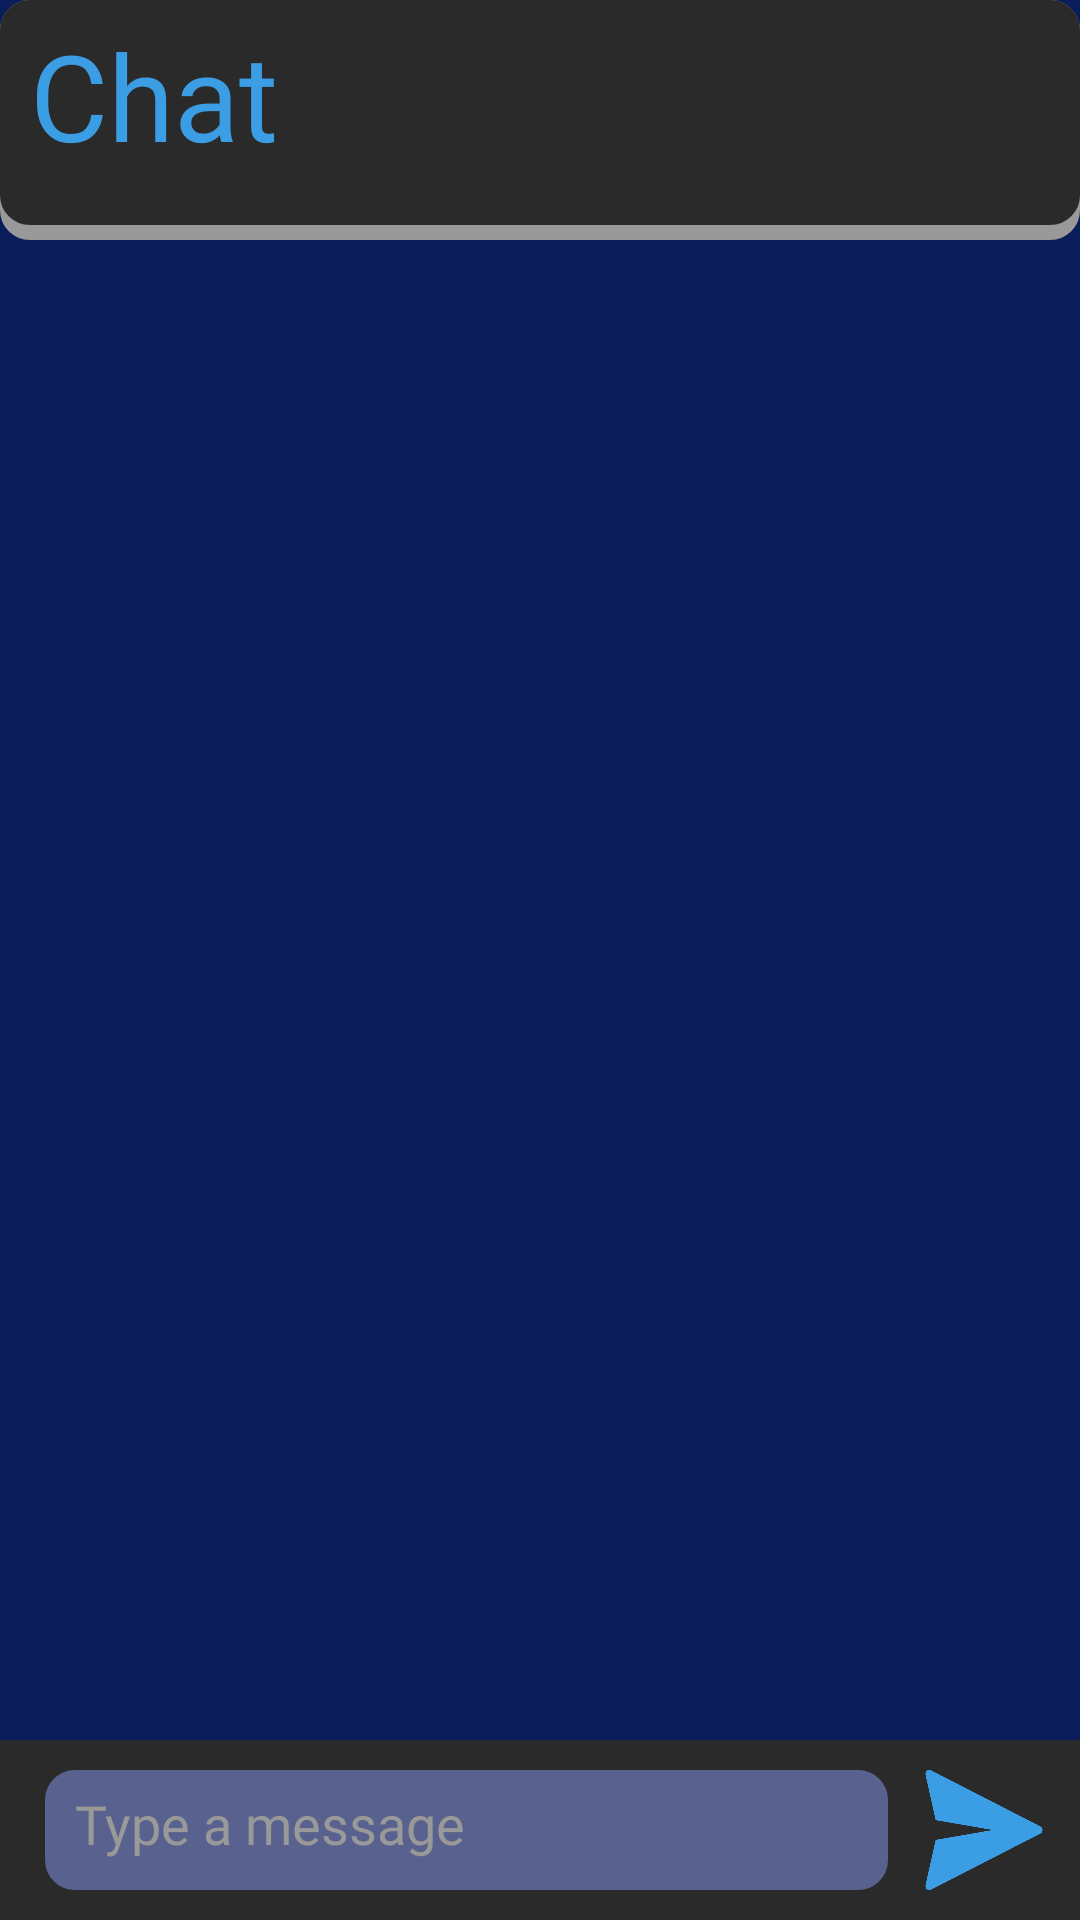

Where icons sit on this 1080px×1920px app screen, as (x1, y1, x2, y2):
sendmessage: (925, 1770, 1043, 1890)
